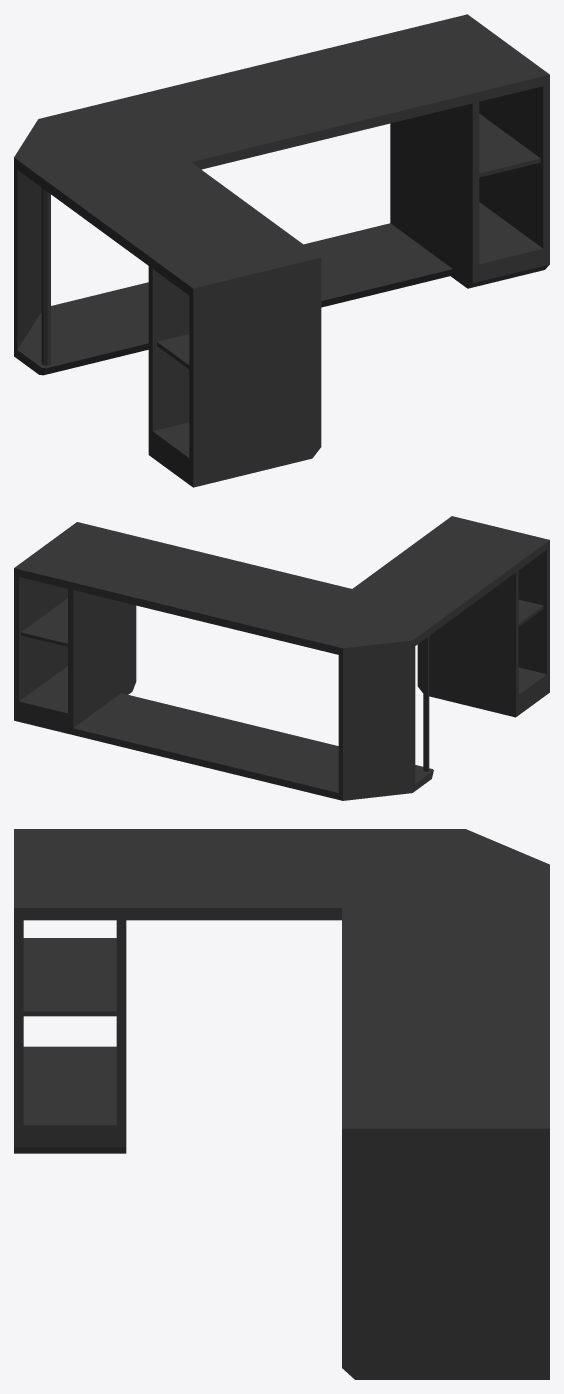
Rendered from desk_4.glb.
3 views of the same model, one above another, from view 1: azimuth 30°, elevation 25°; view 2: azimuth 150°, elevation 25°; view 3: azimuth 270°, elevation 25° (orthographic). The views are drawn at different scales.
Visible parts, largest first — view 1: Desk L; view 2: Desk L; view 3: Desk L.
Part boxes in pixels (x1,y1,x2,y2): Desk L: (14, 14, 549, 487); Desk L: (14, 516, 549, 800); Desk L: (14, 829, 549, 1379).
Bounding box in the file's own units: 2.55 × 0.9955 × 1.93.
1 material, 1 textured.
